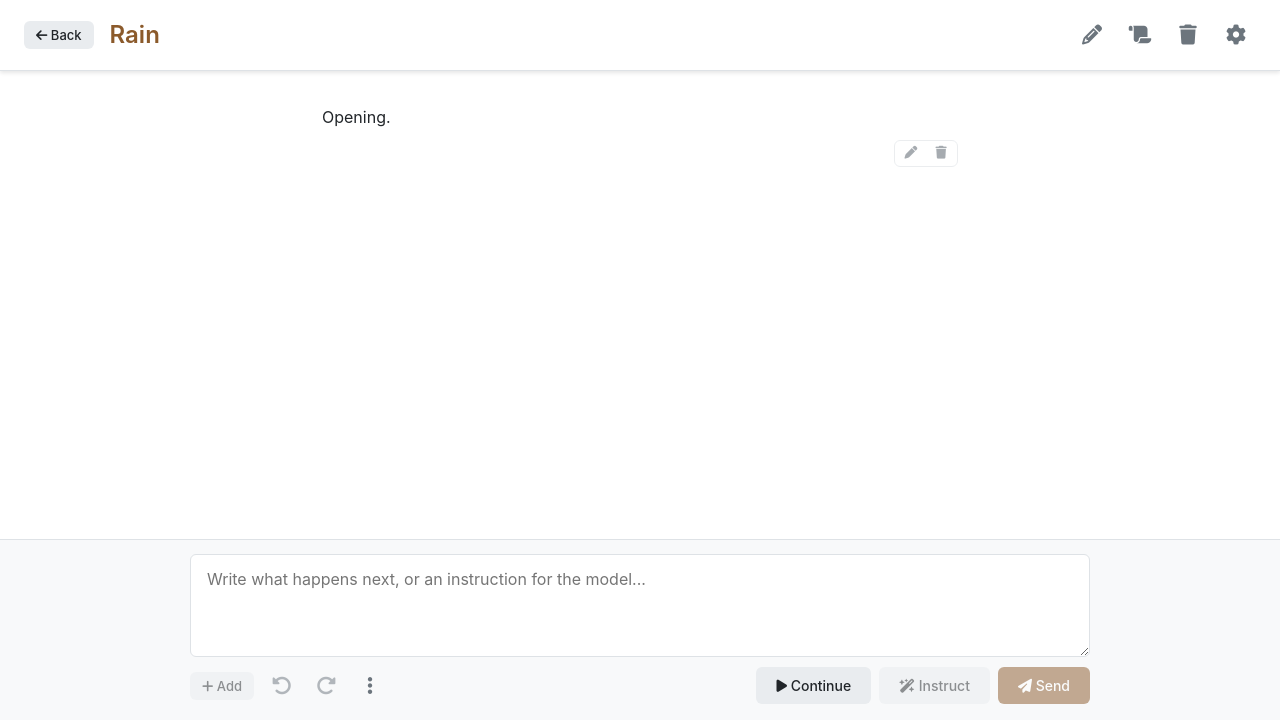
Test case: StoryEditor in Enhanced Story Mode › keeps a continuation's prompt, and shows it in the seam once opened
Step 1. Click the button "Continue" → (814, 686), box [756,667,871,704]
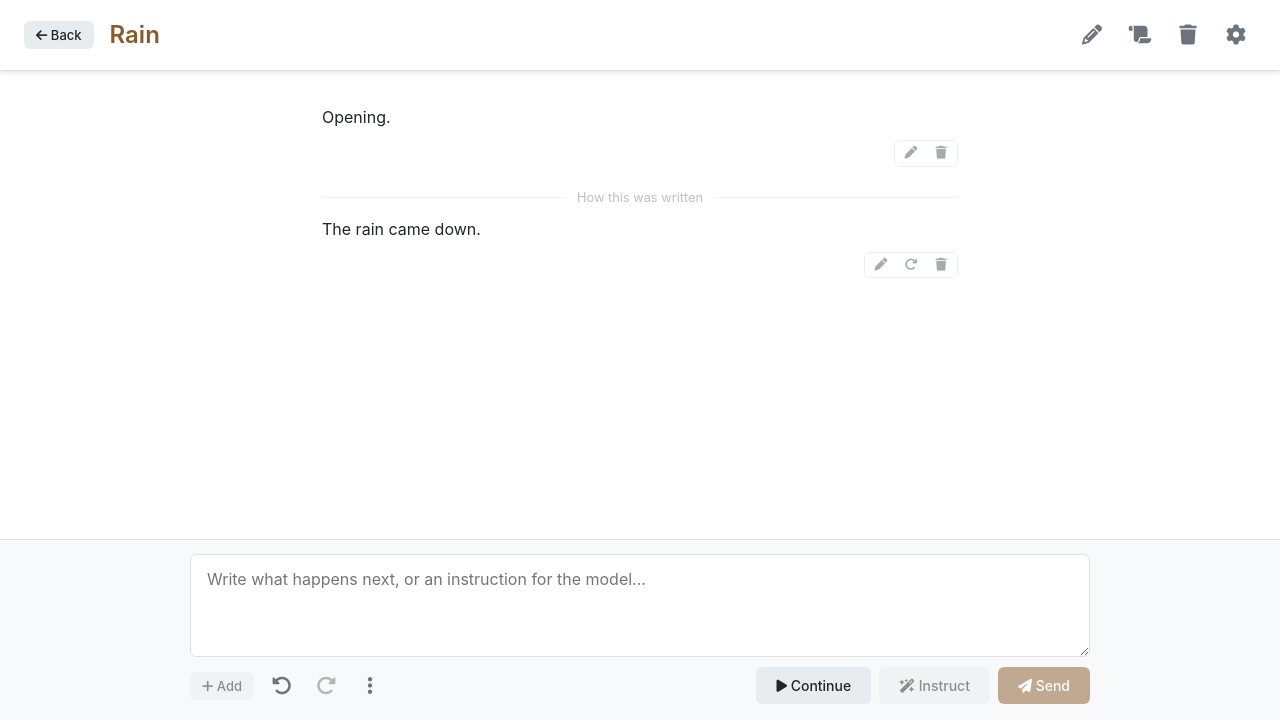
Step 2. Click the button with class "seam-toggle" → (640, 198), box [322,183,958,213]
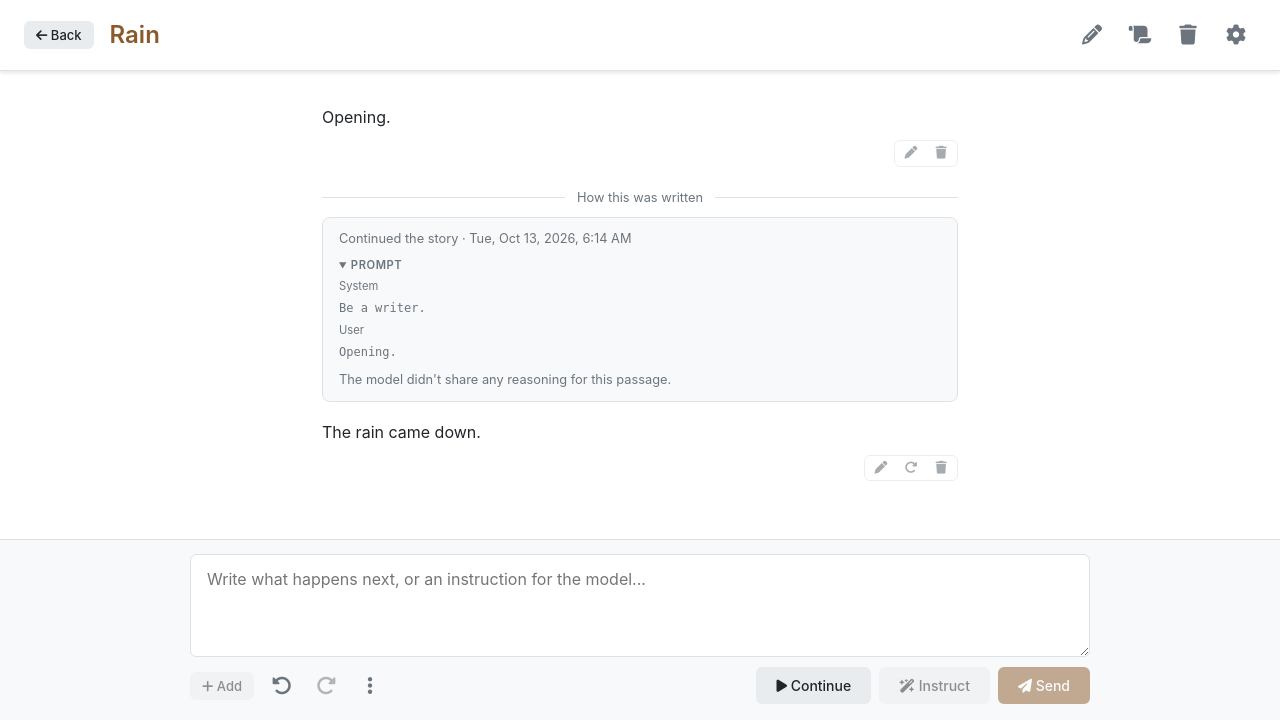
Now the element showing "Prompt System Be a writer. User Opening." is shown, box [339,258,426,359]
